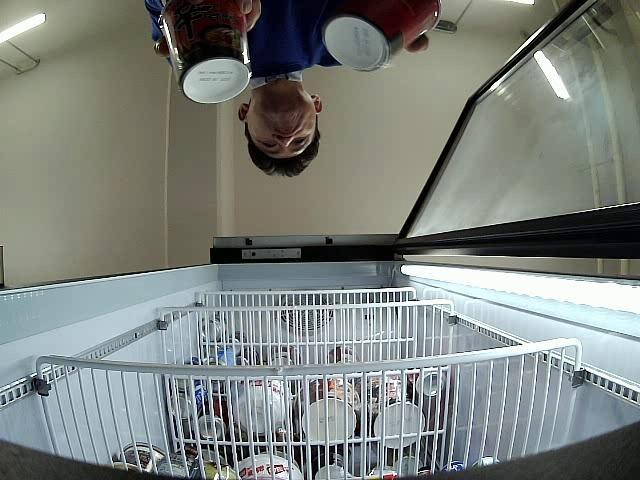02_shinRamen_S: (158, 0, 251, 104), (324, 0, 442, 72)
